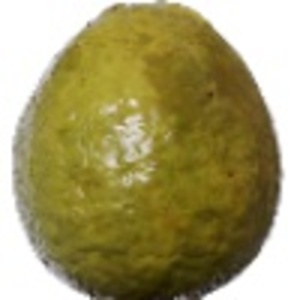goiaba: (8, 1, 285, 297)
